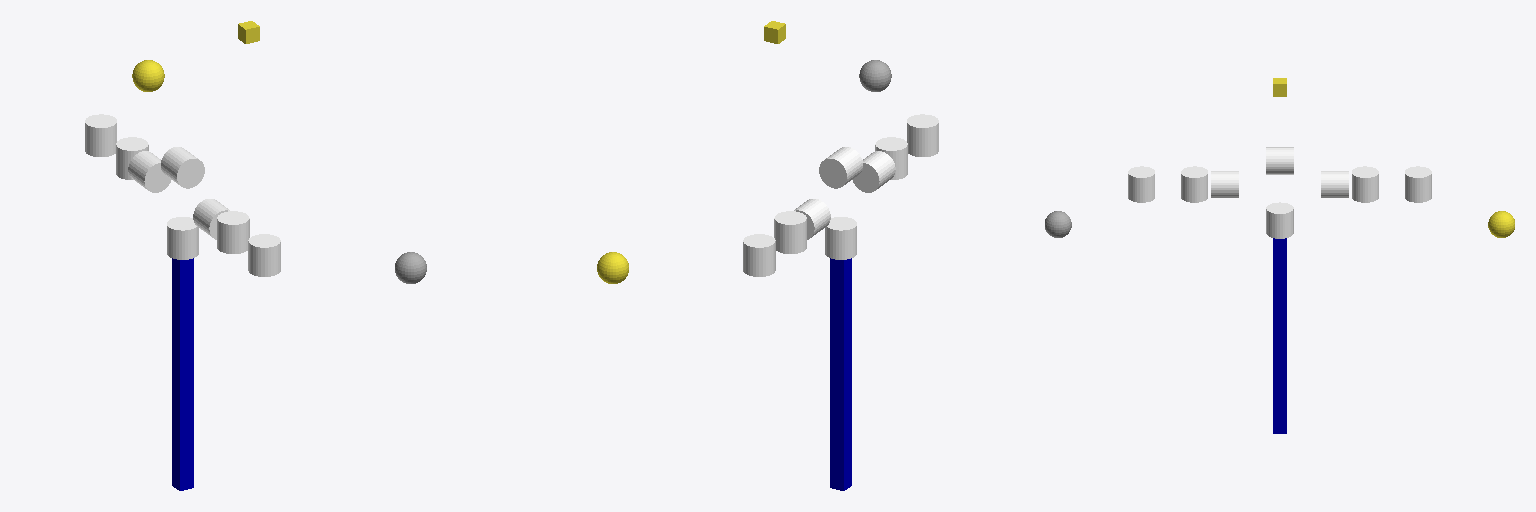
robot.urdf — qtrobot:
<?xml version="1.0"?>

<robot name="qtrobot">

  <material name="white">
    <color rgba="1 1 1 1"/>
  </material>

  <material name="blue">
     <color rgba="0 0 0.8 1"/>
   </material>

  <link name="base_link">
    <visual>
      <geometry>
        <box size="0.02 0.02 0.337"/>
      </geometry>
      <origin rpy="0 0 0" xyz="0 0 0.1685"/>
      <material name="blue"/>
    </visual>
  </link>

 <!-- Head -->
  <link name="HeadYaw_link">
    <visual>
      <geometry>
        <cylinder length="0.04" radius="0.02"/>
      </geometry>
      <origin rpy="0 0 0" xyz="0 0 0"/>
      <material name="white"/>
    </visual>
  </link>

  <link name="HeadPitch_link">
    <visual>
      <geometry>
        <cylinder length="0.04" radius="0.02"/>
      </geometry>
      <origin rpy="1.5708 0 0" xyz="0 0 0"/>
      <material name="white"/>
    </visual>
  </link>

  <link name="Camera_link">
    <visual>
      <geometry>
        <box size="0.02 0.02 0.02"/>
      </geometry>
      <origin rpy="0 0 0" xyz="0 0 0"/>
    </visual>
  </link>

  <joint name="HeadYaw" type="revolute">
    <parent link="base_link"/>
    <child link="HeadYaw_link"/>
    <origin rpy="0 0 0" xyz="0 0 0.338"/>
    <axis xyz="0 0 1"/>
    <limit effort="1000" lower="-1.0472" upper="1.0472" velocity="100"/>
  </joint>

  <joint name="HeadPitch" type="revolute">
    <parent link="HeadYaw_link"/>
    <child link="HeadPitch_link"/>
    <origin rpy="0 0 0" xyz="0 0 0.0962"/>
    <axis xyz="0 1 0"/>
    <limit effort="1000" lower="-0.261799" upper="0.436332" velocity="30"/>
  </joint>

  <joint name="Camera" type="fixed">
    <parent link="HeadPitch_link"/>
    <child link="Camera_link"/>
    <origin rpy="-1.5708 0 -1.5708" xyz="0.094 0 0.162"/>
  </joint>


  <!-- Right Arm -->
  <link name="RightShoulderPitch_link">
    <visual>
      <geometry>
        <cylinder length="0.04" radius="0.02"/>
      </geometry>
      <origin rpy="1.5708 0 0" xyz="0 0 0"/>
      <material name="white"/>
    </visual>
  </link>

  <link name="RightShoulderRoll_link">
    <visual>
      <geometry>
        <cylinder length="0.04" radius="0.02"/>
      </geometry>
      <origin rpy="0 1.5708 0" xyz="0 0 0"/>
      <material name="white"/>
    </visual>
  </link>

  <link name="RightElbowRoll_link">
    <visual>
      <geometry>
        <cylinder length="0.04" radius="0.02"/>
      </geometry>
      <origin rpy="0 1.5708 0" xyz="0 0 0"/>
      <material name="white"/>
    </visual>
  </link>

  <link name="RightHand_link">
    <visual>
      <geometry>
        <sphere radius="0.02"/>
      </geometry>
      <origin rpy="0 0 0" xyz="0 0 0"/>
    </visual>
  </link>

  <joint name="RightShoulderPitch" type="revolute">
    <parent link="base_link"/>
    <child link="RightShoulderPitch_link"/>
    <origin rpy="3.14159 0 0" xyz="0 -0.08 0.396"/>
    <axis xyz="0 1 0"/>
    <limit effort="1000" lower="-2.44346" upper="2.44346" velocity="100"/>
  </joint>

  <joint name="RightShoulderRoll" type="revolute">
    <parent link="RightShoulderPitch_link"/>
    <child link="RightShoulderRoll_link"/>
    <origin rpy="0 -1.5708 0" xyz="0 0.0445 0"/>
    <axis xyz="1 0 0"/>
    <limit effort="1000" lower="-1.309" upper="0.122173" velocity="100"/>
  </joint>

  <joint name="RightElbowRoll" type="revolute">
    <parent link="RightShoulderRoll_link"/>
    <child link="RightElbowRoll_link"/>
    <origin rpy="0 0 0" xyz="0 0.07708 0"/> -->
    <axis xyz="1 0 0"/>
    <limit effort="1000" lower="-1.5708" upper="-0.122173" velocity="100"/>
  </joint>

  <joint name="RightHand" type="fixed">
    <parent link="RightElbowRoll_link"/>
    <child link="RightHand_link"/>
    <origin rpy="-1.5708 0 1.5708" xyz="0 0.184 0"/>
  </joint>

  <!-- Left Arm -->
  <link name="LeftShoulderPitch_link">
    <visual>
      <geometry>
        <cylinder length="0.04" radius="0.02"/>
      </geometry>
      <origin rpy="1.5708 0 0" xyz="0 0 0"/>
      <material name="white"/>
    </visual>
  </link>

  <link name="LeftShoulderRoll_link">
    <visual>
      <geometry>
        <cylinder length="0.04" radius="0.02"/>
      </geometry>
      <origin rpy="0 1.5708 0" xyz="0 0 0"/>
      <material name="white"/>
    </visual>
  </link>

  <link name="LeftElbowRoll_link">
    <visual>
      <geometry>
        <cylinder length="0.04" radius="0.02"/>
      </geometry>
      <origin rpy="0 1.5708 0" xyz="0 0 0"/>
      <material name="white"/>
    </visual>
  </link>

  <link name="LeftHand_link">
    <visual>
      <geometry>
        <sphere radius="0.02"/>
      </geometry>
      <origin rpy="0 0 0" xyz="0 0 0"/>
    </visual>
  </link>

  <joint name="LeftShoulderPitch" type="revolute">
    <parent link="base_link"/>
    <child link="LeftShoulderPitch_link"/>
    <origin rpy="0 0 0" xyz="0 0.08 0.396"/> -->
    <axis xyz="0 1 0"/>
    <limit effort="1000" lower="-2.44346" upper="2.44346" velocity="100"/>
  </joint>

  <joint name="LeftShoulderRoll" type="revolute">
    <parent link="LeftShoulderPitch_link"/>
    <child link="LeftShoulderRoll_link"/>
    <origin rpy="0 -1.5708 0" xyz="0 0.0445 0"/>
    <axis xyz="1 0 0"/>
    <limit effort="1000" lower="-1.309" upper="0.122173" velocity="100"/>
  </joint>

  <joint name="LeftElbowRoll" type="revolute">
    <parent link="LeftShoulderRoll_link"/>
    <child link="LeftElbowRoll_link"/>
    <origin rpy="0 0 0" xyz="0 0.07708 0"/>
    <axis xyz="1 0 0"/>
    <limit effort="1000" lower="-1.5708" upper="-0.122173" velocity="100"/>
  </joint>

  <joint name="LeftHand" type="fixed">
    <parent link="LeftElbowRoll_link"/>
    <child link="LeftHand_link"/>
    <origin rpy="-1.5708 0 1.5708" xyz="0 0.184 0"/>
  </joint>

</robot>

--- Render facts (derived) ---
Views: 3 orthographic renders of the robot side by side, from view 1: azimuth 30°, elevation 25°; view 2: azimuth 150°, elevation 25°; view 3: azimuth 270°, elevation 25°.
Model qtrobot with 12 links and 11 joints (8 revolute, 3 fixed), rooted at base_link, posed all joints at 0 but 2 set to mid-range because 0 is outside their limits (RightElbowRoll = -0.8465, LeftElbowRoll = -0.8465).
Links seen in each view (by area): view 1: base_link, RightElbowRoll_link, RightShoulderRoll_link, HeadPitch_link, LeftElbowRoll_link, HeadYaw_link, LeftShoulderPitch_link, LeftShoulderRoll_link, LeftHand_link, RightHand_link, RightShoulderPitch_link; view 2: base_link, LeftElbowRoll_link, LeftShoulderRoll_link, HeadPitch_link, RightElbowRoll_link, HeadYaw_link, RightShoulderPitch_link, RightShoulderRoll_link, RightHand_link, LeftHand_link, LeftShoulderPitch_link; view 3: base_link, HeadYaw_link, RightElbowRoll_link, LeftElbowRoll_link, RightShoulderRoll_link, LeftShoulderRoll_link, HeadPitch_link, RightShoulderPitch_link, LeftShoulderPitch_link, RightHand_link, LeftHand_link.
Boxes of the visible links, x1,y1,x2,y2 form: base_link: (172, 258, 193, 490); RightElbowRoll_link: (248, 234, 280, 276); RightShoulderRoll_link: (217, 211, 249, 253); HeadPitch_link: (161, 147, 204, 188); LeftElbowRoll_link: (85, 114, 116, 156); HeadYaw_link: (167, 217, 198, 259); LeftShoulderPitch_link: (128, 151, 171, 192); LeftShoulderRoll_link: (116, 137, 148, 179); LeftHand_link: (132, 60, 164, 91); RightHand_link: (395, 252, 426, 283); RightShoulderPitch_link: (193, 199, 229, 239); base_link: (830, 258, 851, 490); LeftElbowRoll_link: (743, 234, 775, 276); LeftShoulderRoll_link: (774, 211, 806, 253); HeadPitch_link: (819, 147, 862, 188); RightElbowRoll_link: (907, 114, 938, 156); HeadYaw_link: (825, 217, 856, 259); RightShoulderPitch_link: (852, 151, 895, 192); RightShoulderRoll_link: (875, 137, 907, 179); RightHand_link: (859, 60, 891, 91); LeftHand_link: (597, 252, 628, 283); LeftShoulderPitch_link: (794, 199, 830, 239); base_link: (1273, 238, 1286, 433); HeadYaw_link: (1266, 202, 1293, 238); RightElbowRoll_link: (1128, 166, 1154, 202); LeftElbowRoll_link: (1405, 166, 1431, 202); RightShoulderRoll_link: (1181, 166, 1207, 202); LeftShoulderRoll_link: (1352, 166, 1378, 202); HeadPitch_link: (1266, 147, 1293, 174); RightShoulderPitch_link: (1211, 171, 1238, 197); LeftShoulderPitch_link: (1321, 171, 1348, 197); RightHand_link: (1045, 211, 1071, 237); LeftHand_link: (1488, 211, 1514, 237).
Size in the robot's own frame: 0.1778 by 0.6869 by 0.6062 metres.
Geometry: primitives only (box / cylinder / sphere), no mesh files.